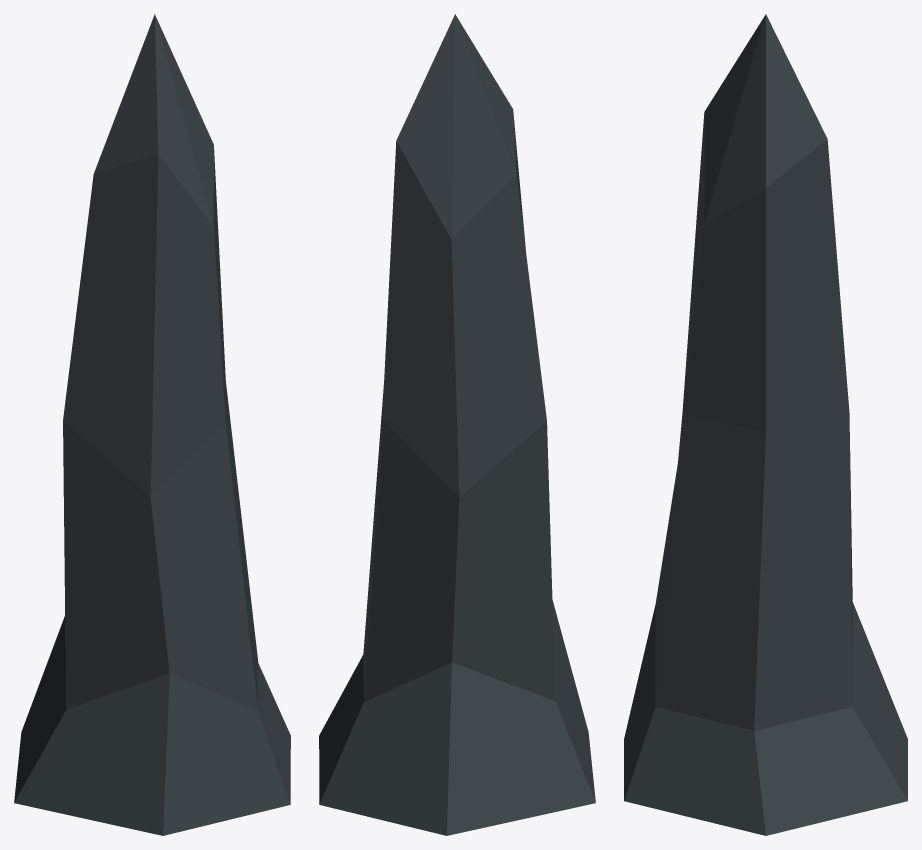
The model's file is Stalagmite-A08.fbx.
The picture shows the model from 3 angles, left to right: view 1: azimuth 30°, elevation 25°; view 2: azimuth 150°, elevation 25°; view 3: azimuth 270°, elevation 25°; orthographic projection.
Visible parts, largest first — view 1: Stalagmite-A08; view 2: Stalagmite-A08; view 3: Stalagmite-A08.
Boxes of the visible parts, x1,y1,x2,y2 form: Stalagmite-A08: (14, 14, 290, 835); Stalagmite-A08: (319, 14, 595, 835); Stalagmite-A08: (624, 14, 907, 835).
Bounding box in the file's own units: 73.99 × 193 × 65.64.
